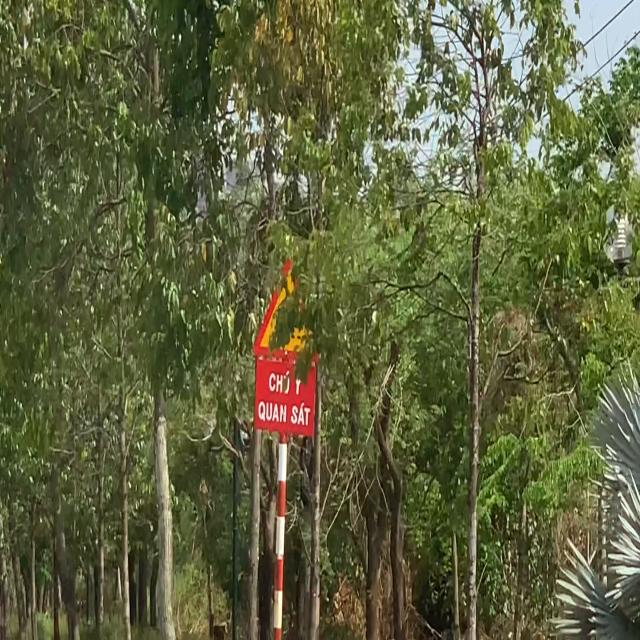Nguoi di bo cat ngang: (253, 255, 323, 362)
